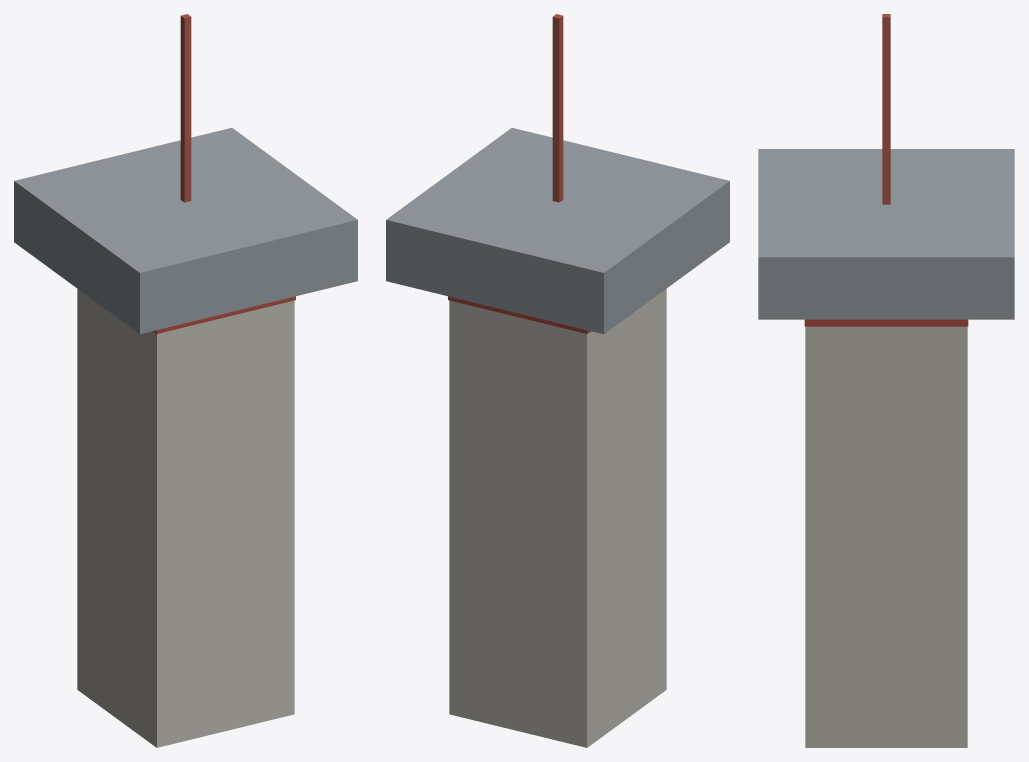
The model's file is bw-tower.bw-v1.lod2.glb.
3 renders of one model, left to right at view 1: azimuth 30°, elevation 25°; view 2: azimuth 150°, elevation 25°; view 3: azimuth 270°, elevation 25°, orthographic.
Visible parts, largest first — view 1: bw-tower; view 2: bw-tower; view 3: bw-tower.
Part boxes in pixels (x1=…): bw-tower: x1=14, y1=14, x2=357, y2=747; bw-tower: x1=386, y1=14, x2=729, y2=747; bw-tower: x1=758, y1=14, x2=1014, y2=747.
Size of the model in its own units: 15.8 by 47.5 by 15.8.
